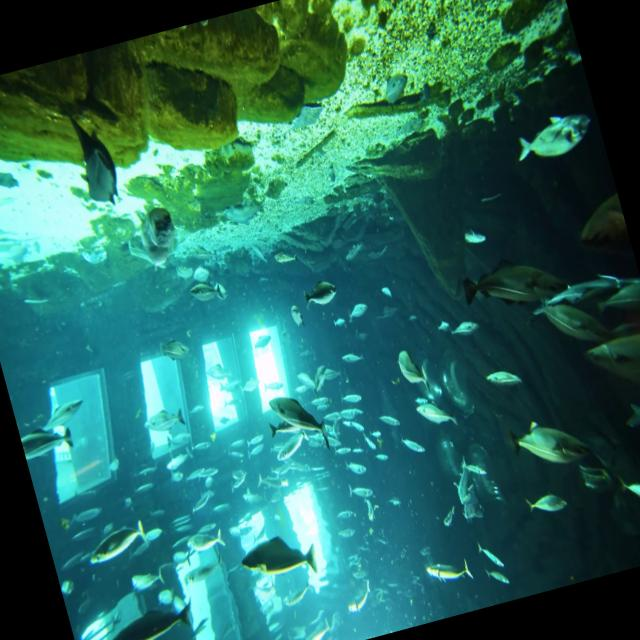fish: (56, 104, 138, 242), (72, 497, 175, 584), (509, 99, 604, 180), (262, 372, 342, 466), (505, 408, 594, 492), (229, 518, 321, 598), (574, 317, 640, 413), (470, 244, 552, 320), (529, 284, 606, 364), (562, 194, 636, 276), (92, 590, 203, 640), (17, 411, 87, 474), (173, 514, 237, 566), (126, 396, 189, 446), (297, 274, 355, 326), (424, 552, 481, 600), (476, 356, 530, 406), (179, 272, 233, 320), (509, 478, 569, 520), (388, 338, 433, 394), (612, 455, 640, 539), (152, 333, 196, 376), (475, 537, 516, 579), (446, 308, 490, 347), (340, 292, 374, 332), (456, 224, 490, 258)
